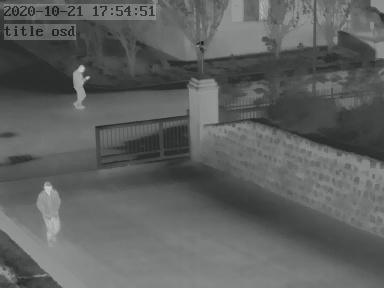person: (39, 178, 63, 244), (73, 61, 88, 106)
